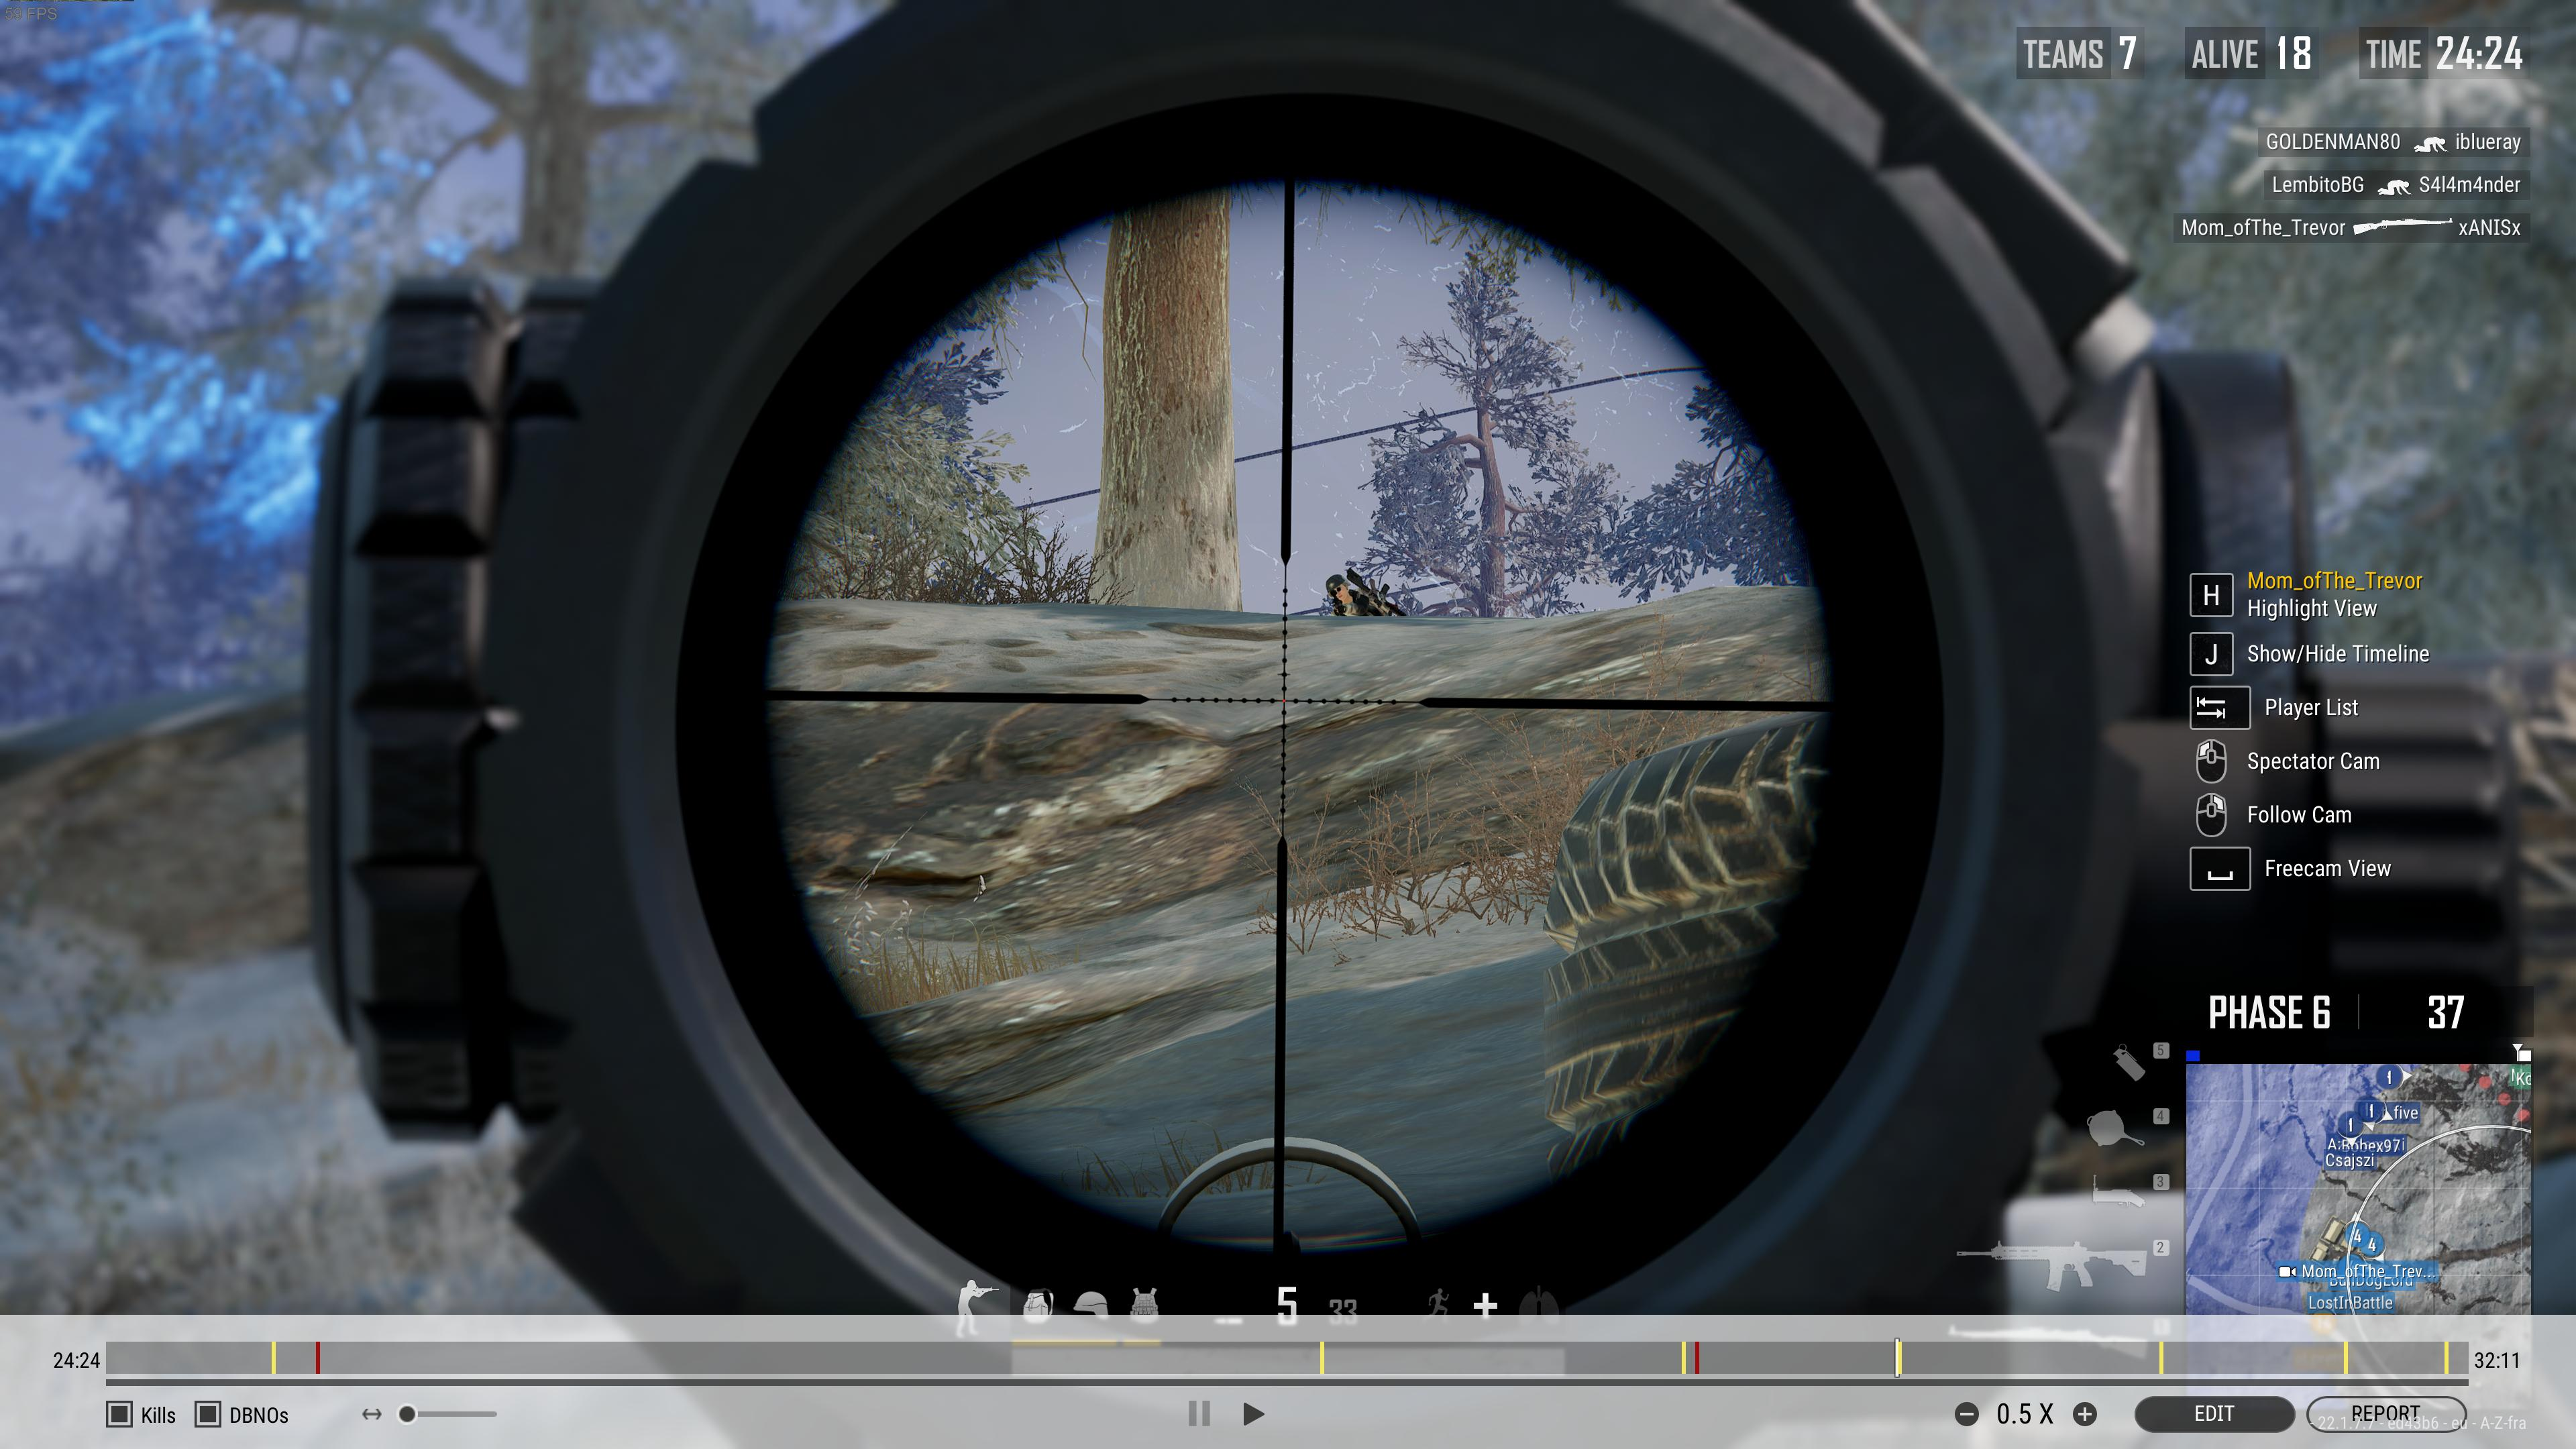enemy: (1325, 573, 1391, 616)
enemy_head: (1325, 573, 1348, 600)
